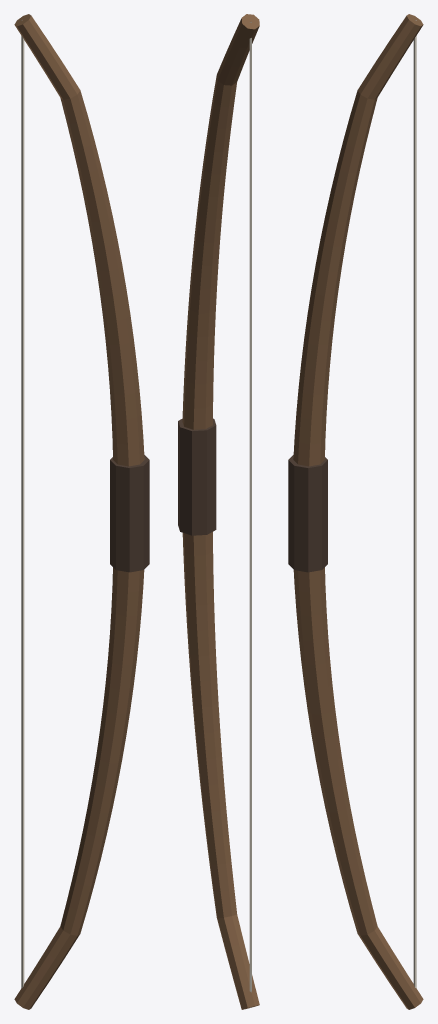
Rendered from ROWAN_bow.fbx.
3 views of the same model, side by side, from view 1: azimuth 90°, elevation 25°; view 2: azimuth 210°, elevation 25°; view 3: azimuth 270°, elevation 25° (orthographic).
Parts seen in each view (by area): view 1: ROWAN_bow; view 2: ROWAN_bow; view 3: ROWAN_bow.
Boxes of the visible parts, x1,y1,x2,y2 form: ROWAN_bow: (14, 14, 149, 1009); ROWAN_bow: (178, 14, 259, 1009); ROWAN_bow: (288, 14, 423, 1009).
Bounding box in the file's own units: 0.048 × 1.33 × 0.1643.
